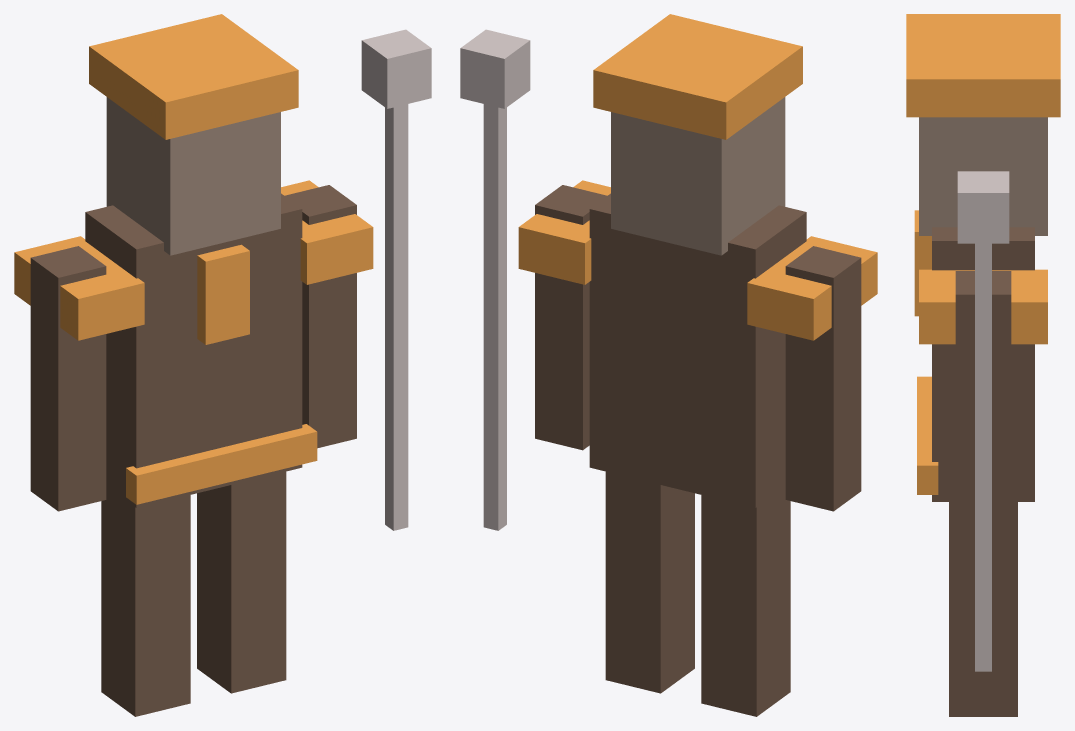
File: 06_rook_signalborn_tamer_of_smoke.glb
3 views of the same model, side by side, from view 1: azimuth 30°, elevation 25°; view 2: azimuth 150°, elevation 25°; view 3: azimuth 270°, elevation 25° (orthographic).
Parts seen in each view (by area): view 1: Rook Signalborn, Tamer of Smoke; view 2: Rook Signalborn, Tamer of Smoke; view 3: Rook Signalborn, Tamer of Smoke.
Part boxes in pixels (x1=…): Rook Signalborn, Tamer of Smoke: x1=14, y1=14, x2=431, y2=716; Rook Signalborn, Tamer of Smoke: x1=460, y1=14, x2=877, y2=716; Rook Signalborn, Tamer of Smoke: x1=906, y1=14, x2=1060, y2=716.
Bounding box in the file's own units: 0.9846 × 1.58 × 0.3492.
